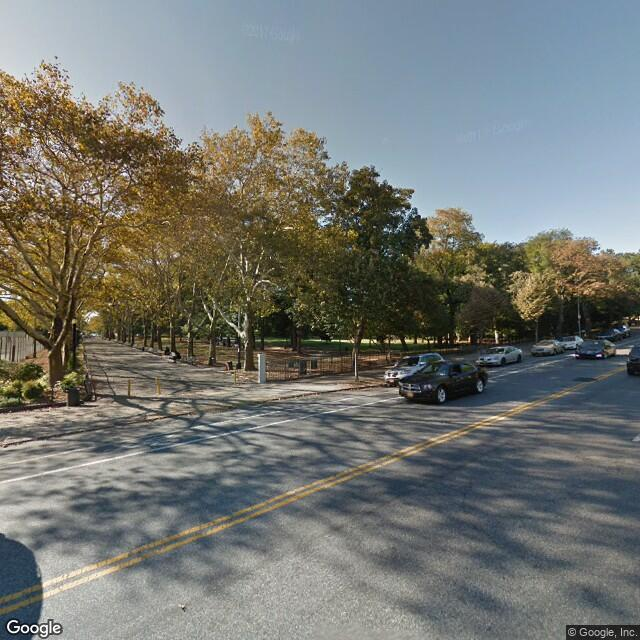litter: (178, 601, 186, 611), (187, 409, 191, 415)
